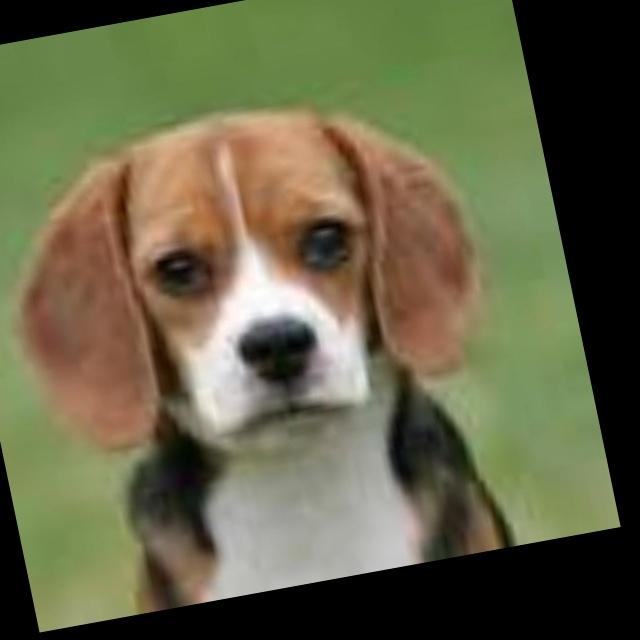dog: (0, 52, 533, 521)
